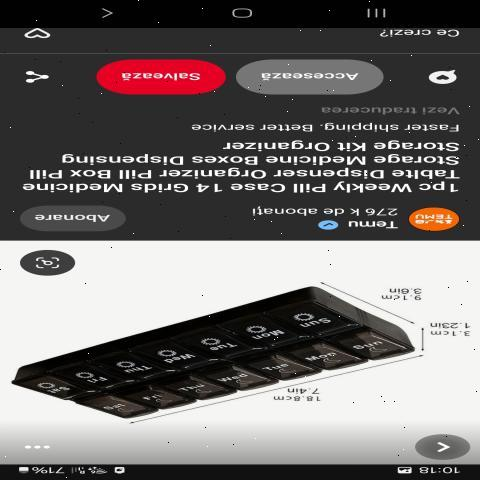PillBox: (0, 284, 440, 456)
